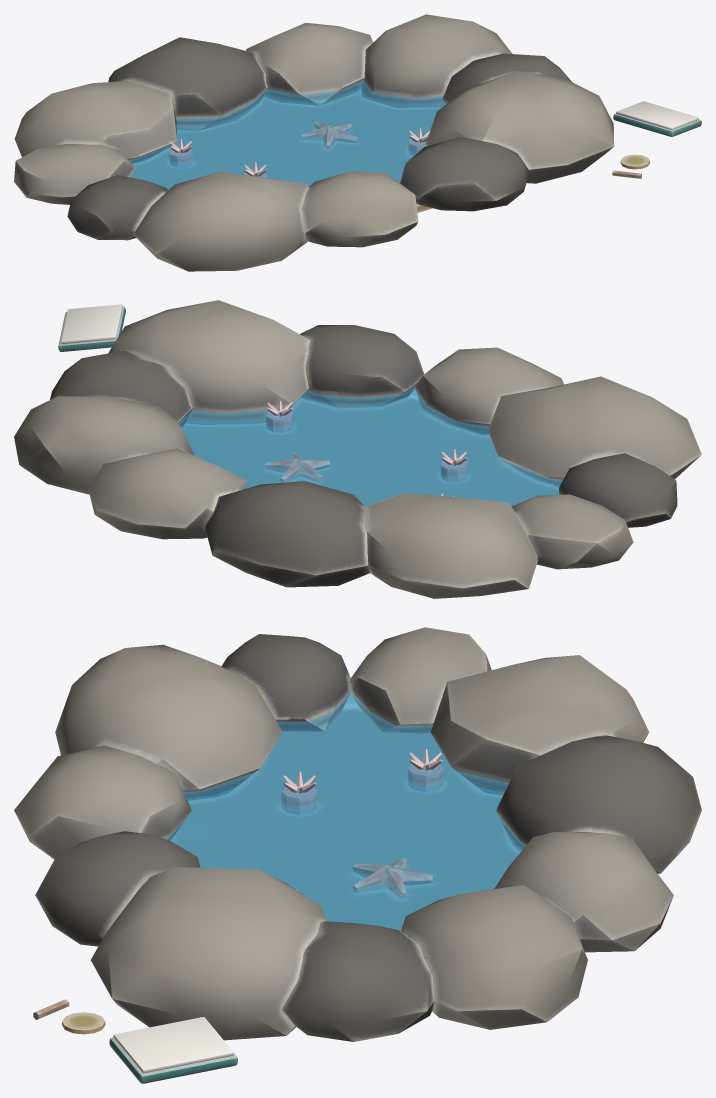
Rendered from dress_tidepool.glb.
3 views of the same model, one above another, from view 1: azimuth 30°, elevation 25°; view 2: azimuth 150°, elevation 25°; view 3: azimuth 270°, elevation 25° (orthographic). The views are drawn at different scales.
Parts seen in each view (by area): view 1: SM_DressTidepool; view 2: SM_DressTidepool; view 3: SM_DressTidepool.
Boxes of the visible parts, x1,y1,x2,y2 form: SM_DressTidepool: (14, 14, 701, 271); SM_DressTidepool: (14, 300, 701, 598); SM_DressTidepool: (14, 627, 701, 1083).
Size of the model in its own units: 2.76 by 0.2973 by 1.91.
Materials: 3 (1 with a texture image).
